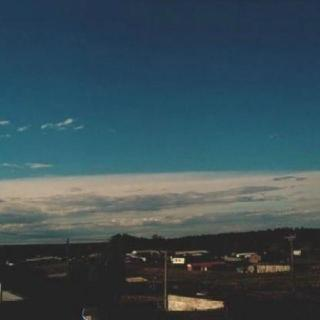Cirrostratus: (0, 109, 320, 228)
